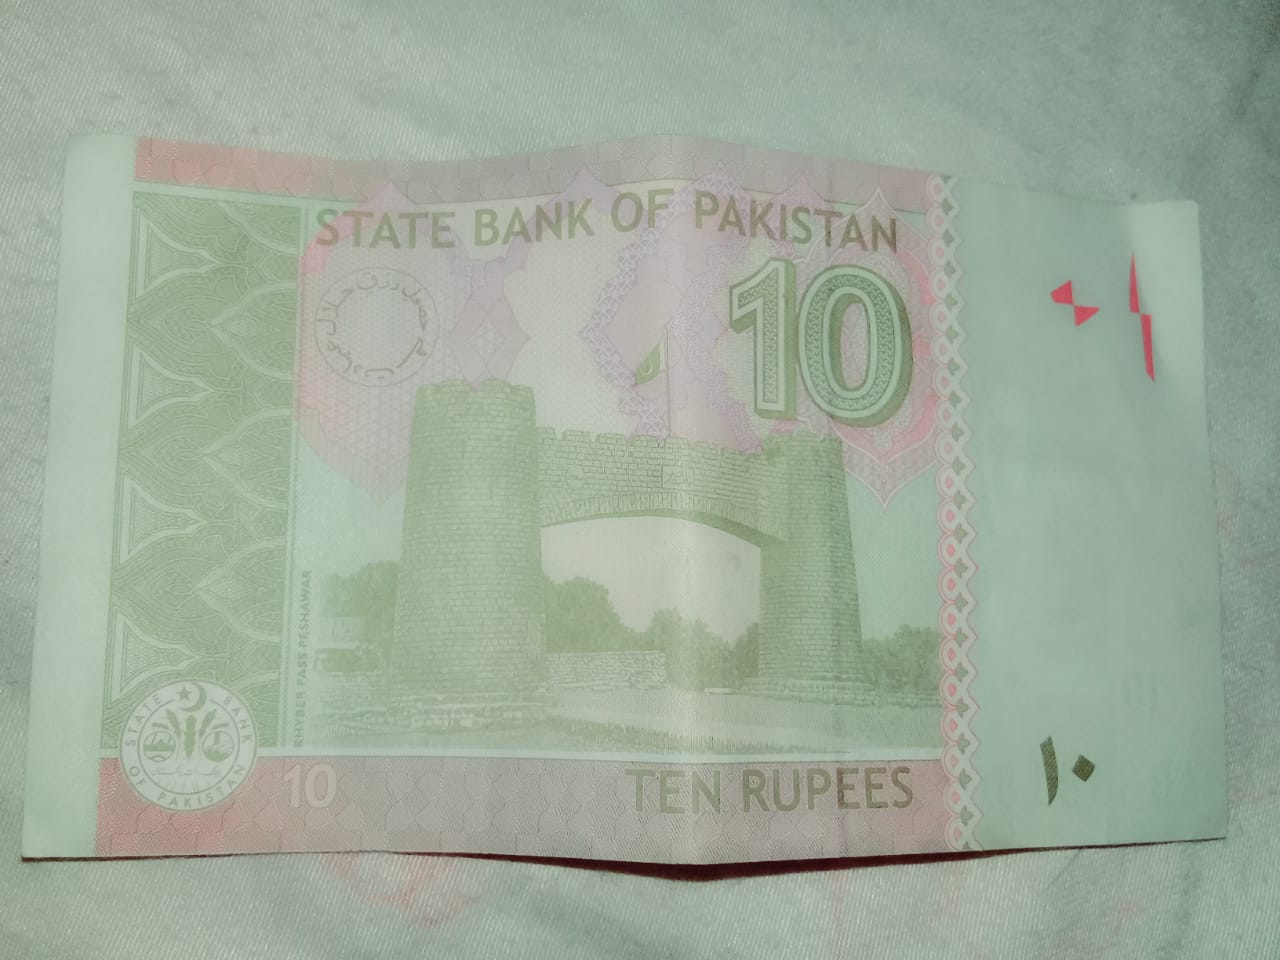10 rupee: (21, 118, 1224, 862)
